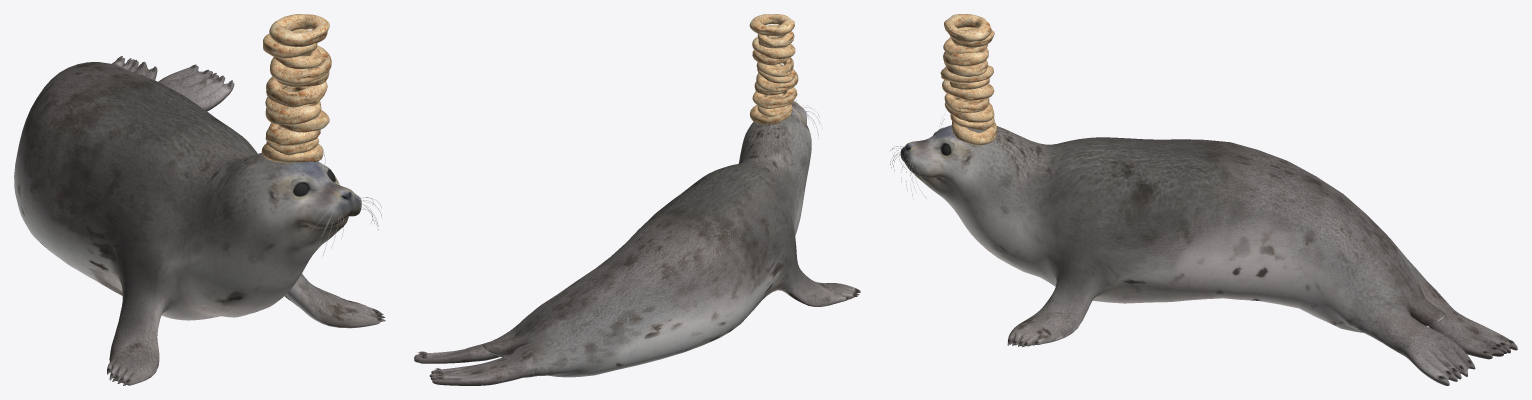
Rendered from foca_idiota.glb.
The picture shows the model from 3 angles, left to right: view 1: azimuth 30°, elevation 25°; view 2: azimuth 150°, elevation 25°; view 3: azimuth 270°, elevation 25°; orthographic projection. The views are drawn at different scales.
Visible parts, largest first — view 1: Seal_3, Torus.010_18, Torus.006_14, Torus.008_16, Torus.004_12, Torus.002_10, Torus.011_19, Torus_8, Torus.009_17, Torus.003_11, Torus.001_9, Whiskers_6 (+1 smaller); view 2: Seal_3, Torus.010_18, Torus.002_10, Torus.008_16, Torus_8, Torus.004_12, Torus.006_14, Torus.011_19; view 3: Seal_3, Torus.010_18, Torus_8, Torus.004_12, Torus.008_16, Torus.003_11.
Boxes of the visible parts, x1,y1,x2,y2 form: Seal_3: (14,56,385,385); Torus.010_18: (269,14,329,46); Torus.006_14: (266,76,327,107); Torus.008_16: (270,45,331,83); Torus.004_12: (265,100,321,125); Torus.002_10: (265,123,320,145); Torus.011_19: (263,29,317,58); Torus_8: (261,143,323,163); Torus.009_17: (274,47,322,68); Torus.003_11: (278,110,329,132); Torus.001_9: (266,137,318,155); Whiskers_6: (287,147,381,255); Seal_3: (414,101,860,385); Torus.010_18: (749,14,794,35); Torus.002_10: (752,87,797,108); Torus.008_16: (752,37,795,59); Torus_8: (750,104,792,124); Torus.004_12: (756,69,798,91); Torus.006_14: (756,57,793,77); Torus.011_19: (757,24,794,47); Seal_3: (900,125,1517,385); Torus.010_18: (944,14,991,42); Torus_8: (952,121,997,145); Torus.004_12: (942,80,994,100); Torus.008_16: (943,45,988,66); Torus.003_11: (944,93,989,112).
Size of the model in its own units: 0.9783 by 0.8385 by 1.69.
Materials: 4 (2 with a texture image).
